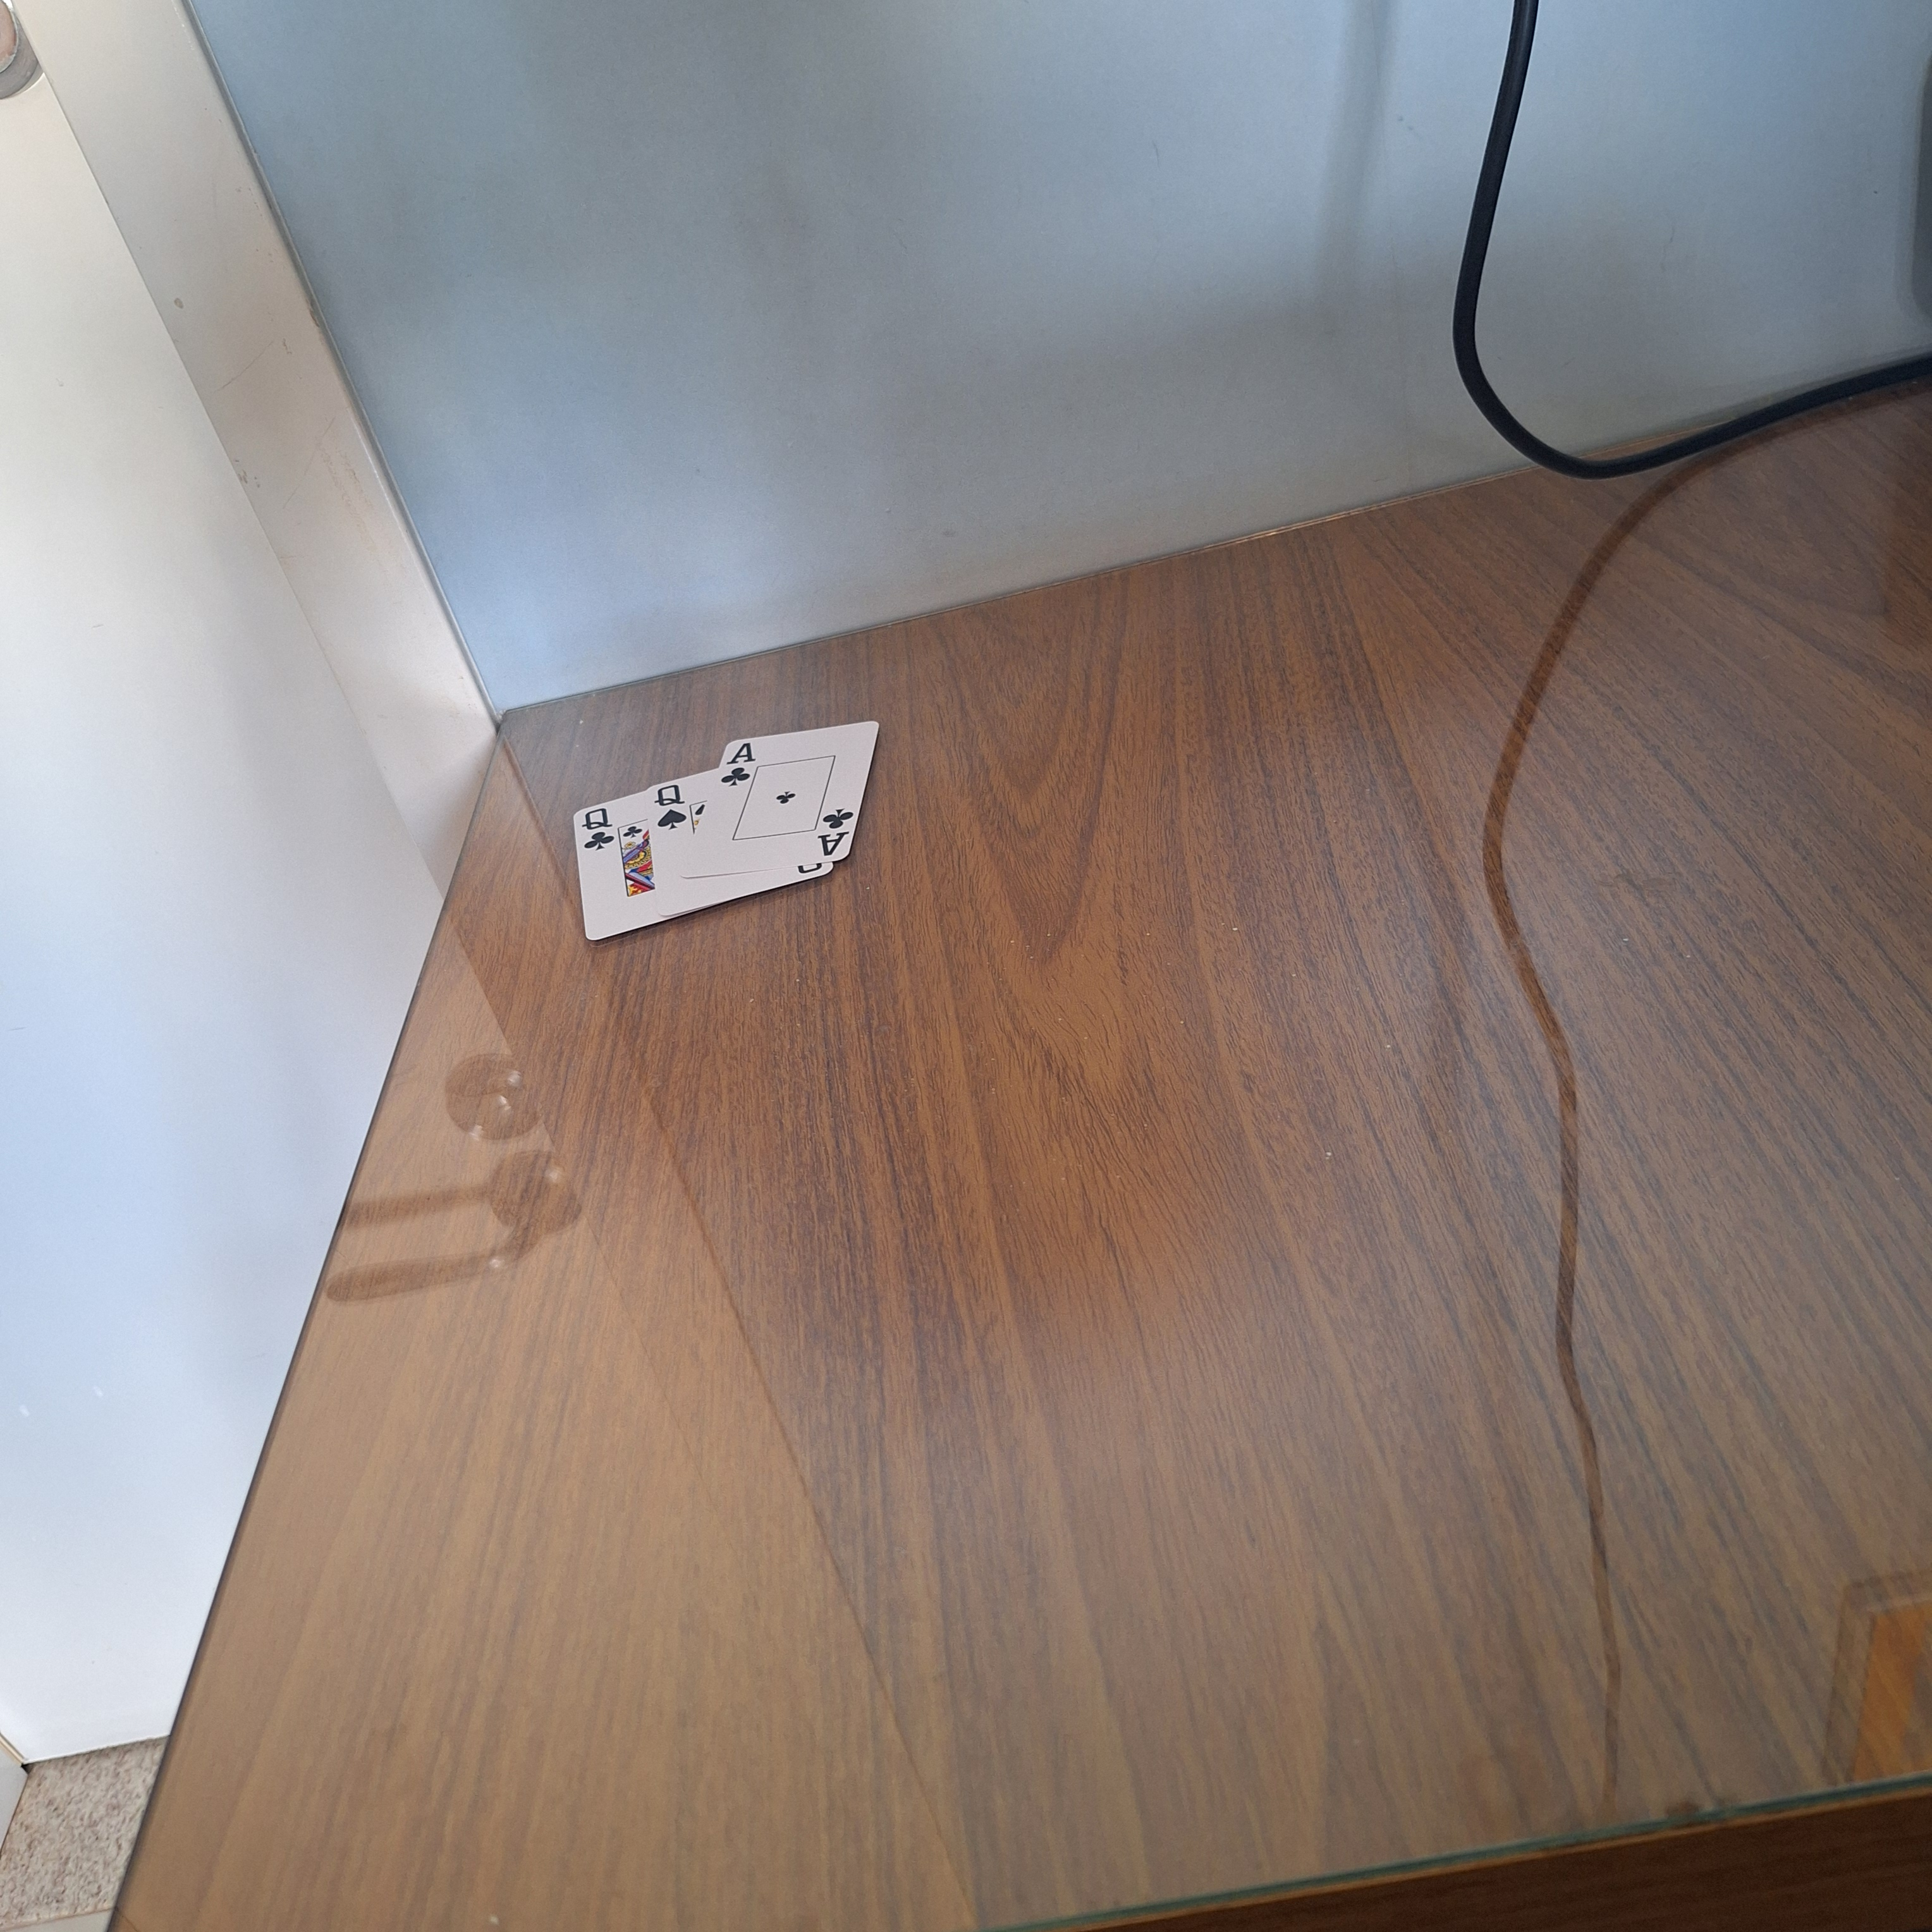AP: (814, 803, 858, 862), (717, 736, 759, 791)
QE: (649, 780, 694, 837)
QP: (575, 805, 617, 855)
